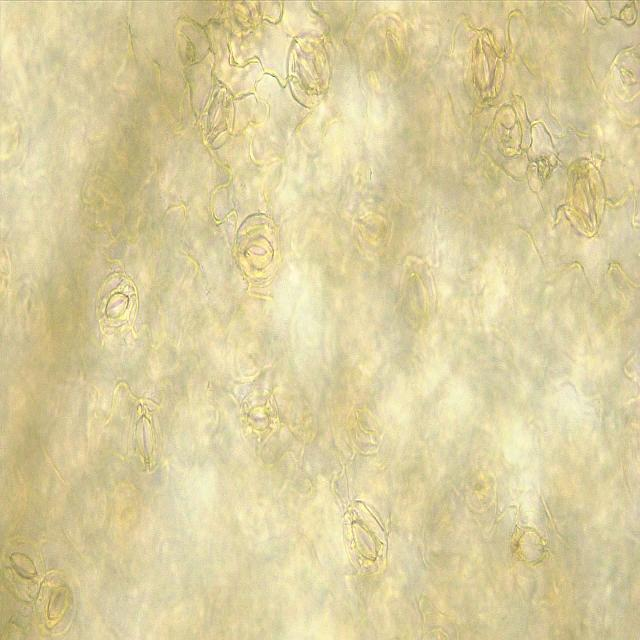Stomata: (462, 28, 507, 108), (286, 31, 332, 109), (342, 498, 388, 576), (235, 211, 282, 287), (507, 507, 552, 581), (564, 157, 605, 238), (398, 252, 438, 335), (34, 568, 78, 640), (1, 536, 47, 604), (126, 396, 164, 476), (96, 272, 140, 338), (346, 390, 386, 456), (239, 388, 280, 452), (198, 83, 236, 150), (352, 200, 393, 258), (376, 16, 410, 79)
